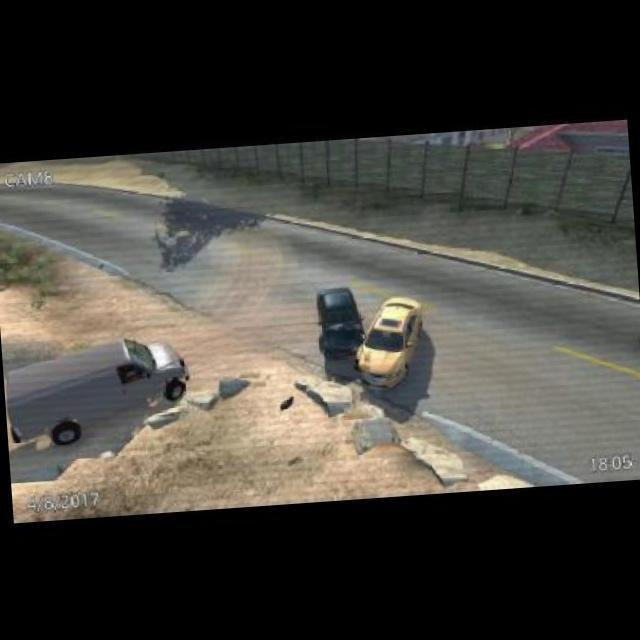accident: (305, 279, 430, 402)
